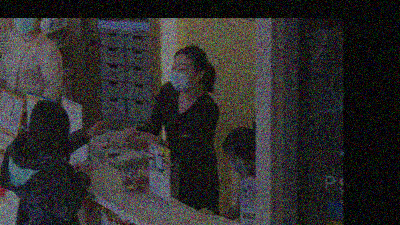with_mask: (170, 61, 195, 94), (224, 150, 251, 174)
